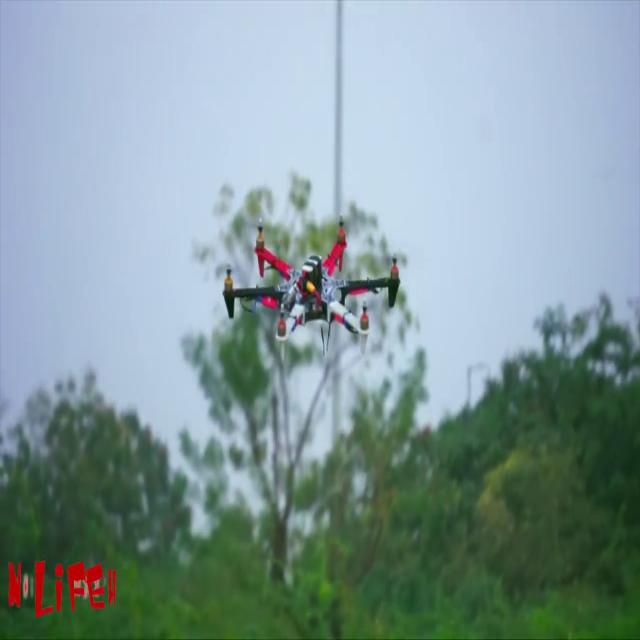drone: (219, 226, 400, 364)
